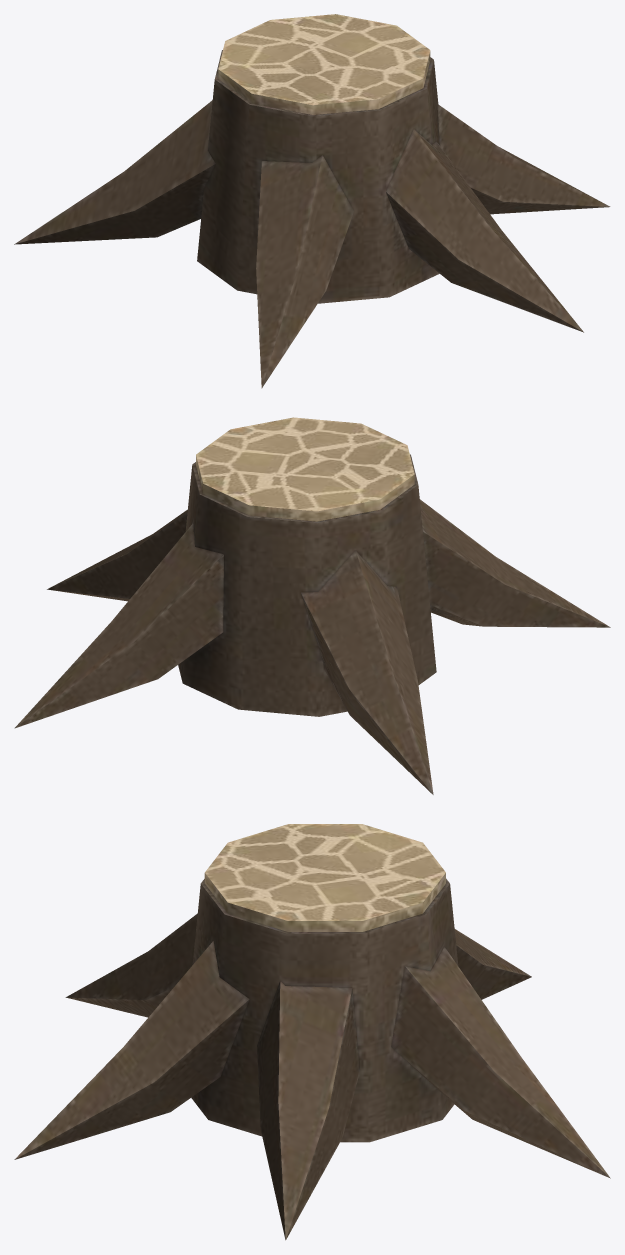
File: toco.glb
3 renders of one model, top to bottom at view 1: azimuth 30°, elevation 25°; view 2: azimuth 150°, elevation 25°; view 3: azimuth 270°, elevation 25°, orthographic. The views are drawn at different scales.
Parts seen in each view (by area): view 1: toco; view 2: toco; view 3: toco.
Part boxes in pixels (<box>): toco: <box>14,14,610,388</box>; toco: <box>14,417,610,794</box>; toco: <box>14,824,610,1240</box>.
Bounding box in the file's own units: 1.55 × 0.61 × 1.48.
Materials: 1 (1 with a texture image).
